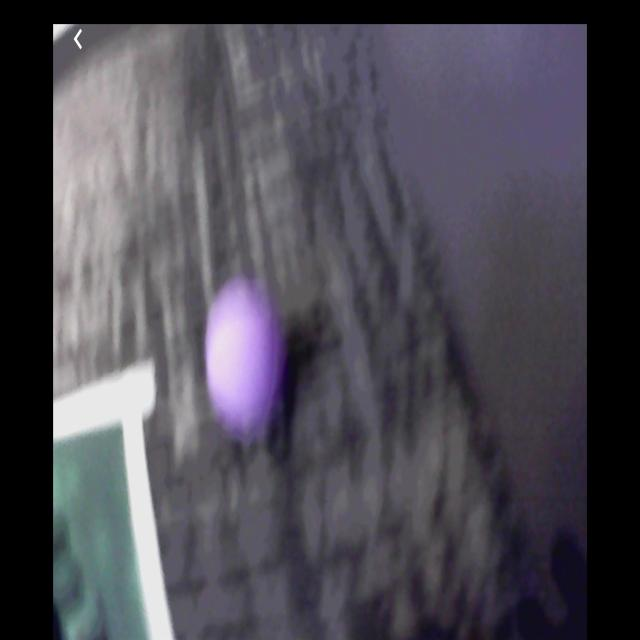ball: (204, 278, 289, 438)
